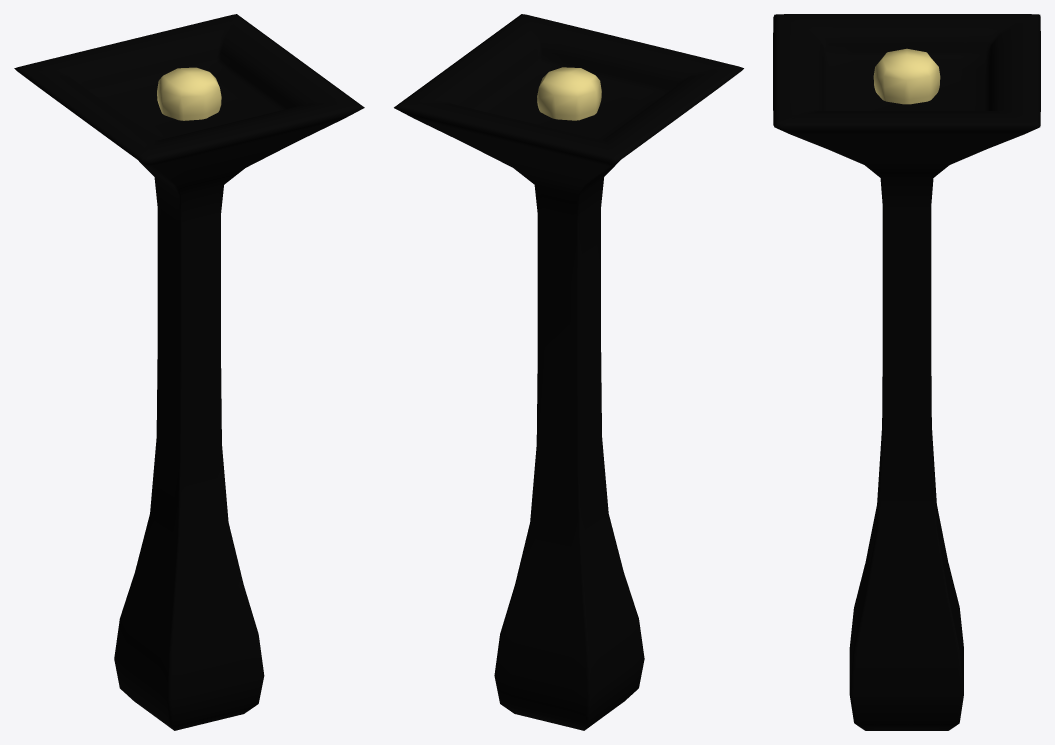
The model's file is lamp.fbx.
3 views of the same model, side by side, from view 1: azimuth 30°, elevation 25°; view 2: azimuth 150°, elevation 25°; view 3: azimuth 270°, elevation 25° (orthographic). The views are drawn at different scales.
Parts seen in each view (by area): view 1: Cube, Cube.001; view 2: Cube, Cube.001; view 3: Cube, Cube.001.
Part boxes in pixels (x1,y1,x2,y2): Cube: [14, 14, 364, 730]; Cube.001: [157, 67, 221, 120]; Cube: [394, 14, 743, 730]; Cube.001: [537, 67, 601, 120]; Cube: [773, 14, 1040, 730]; Cube.001: [873, 48, 940, 104].
Bounding box in the file's own units: 2.63 × 2.63 × 7.14.
